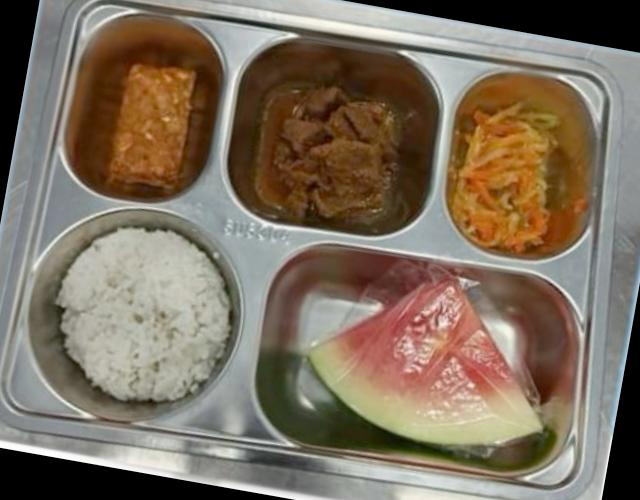ayam: (257, 87, 398, 221)
buah: (309, 278, 541, 446)
nasi: (54, 228, 231, 402)
sayur: (450, 103, 559, 254)
tempe: (108, 64, 196, 189)
